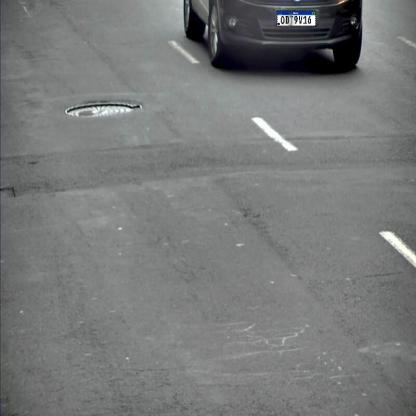PlacaM: (277, 10, 316, 26)
